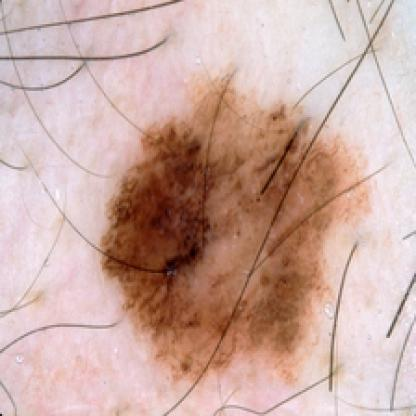malignant: (112, 98, 346, 348)
